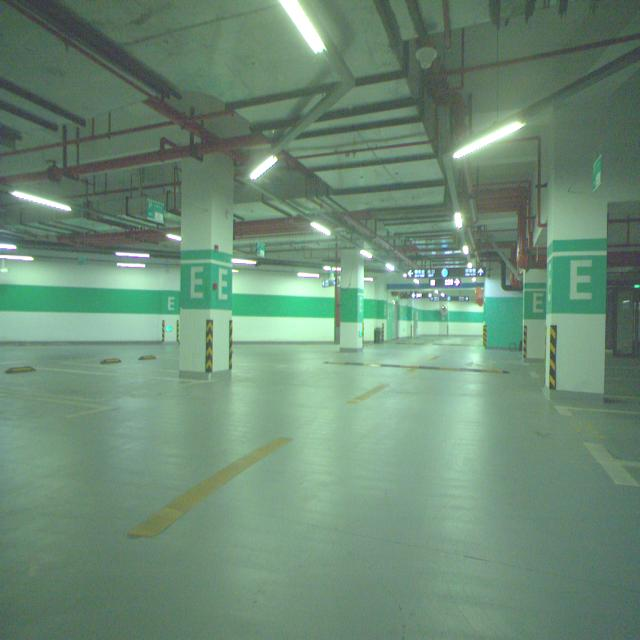pillar: (179, 153, 234, 378), (546, 197, 608, 395), (340, 248, 364, 351)
